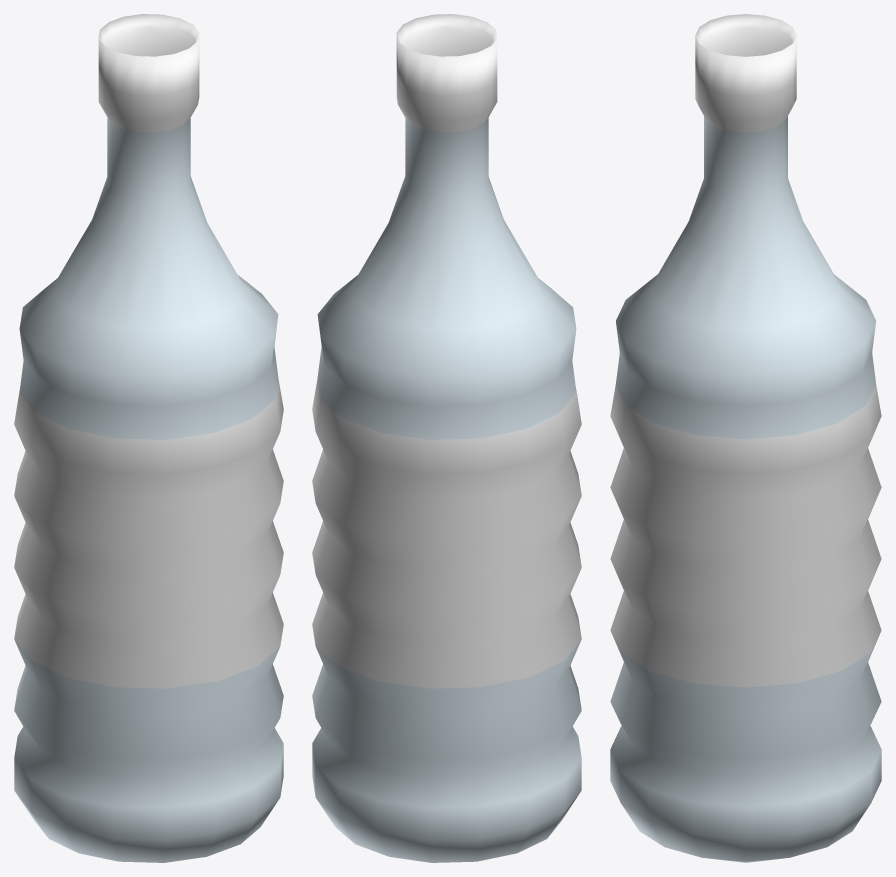
Rendered from waterbottle.fbx.
3 views of the same model, side by side, from view 1: azimuth 30°, elevation 25°; view 2: azimuth 150°, elevation 25°; view 3: azimuth 270°, elevation 25° (orthographic).
Parts seen in each view (by area): view 1: WaterBottle; view 2: WaterBottle; view 3: WaterBottle.
Part boxes in pixels (x1=…): WaterBottle: x1=14, y1=14, x2=283, y2=862; WaterBottle: x1=312, y1=14, x2=581, y2=862; WaterBottle: x1=610, y1=14, x2=881, y2=862.
Size of the model in its own units: 31 by 101 by 31.
